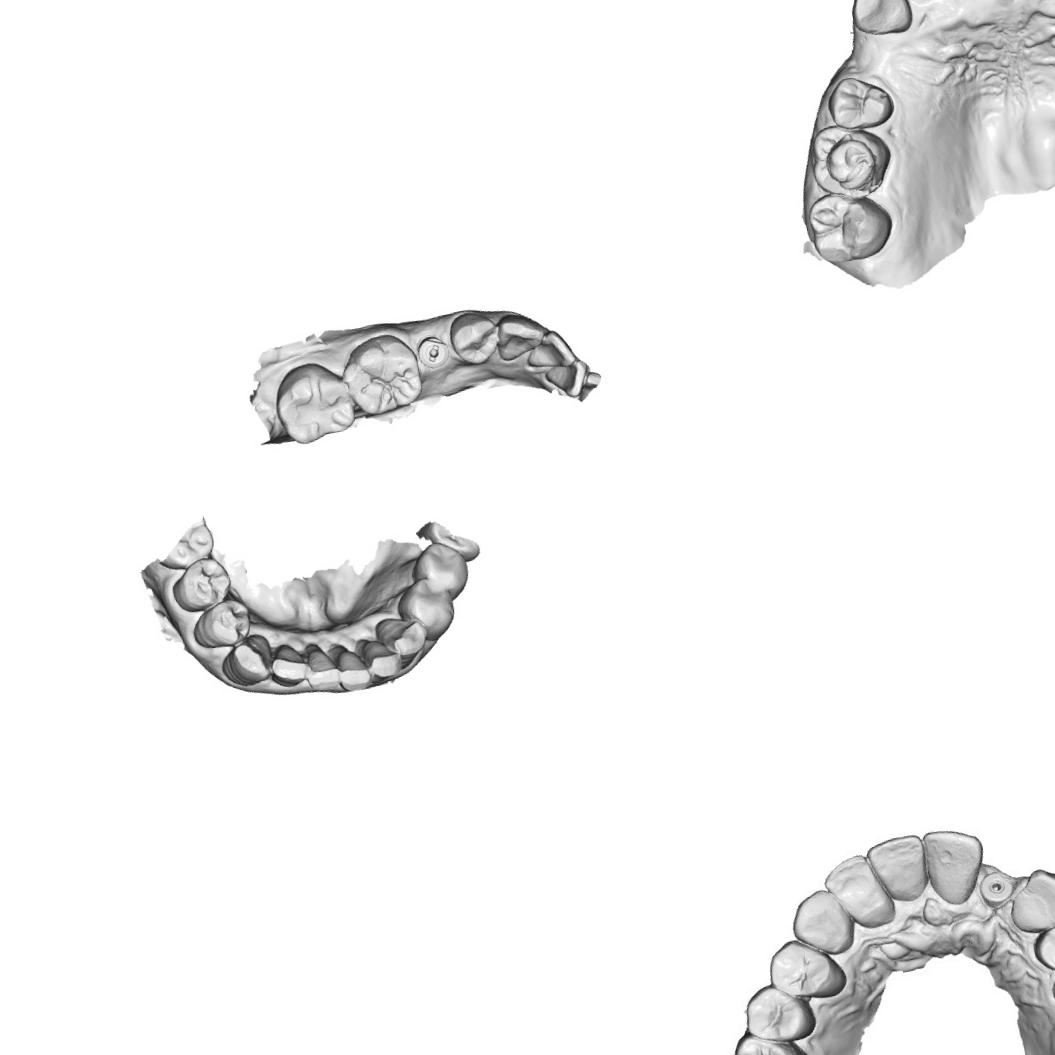canine: (782, 883, 860, 961), (216, 630, 278, 690), (490, 307, 548, 363), (372, 608, 431, 661), (843, 0, 915, 43), (1009, 864, 1055, 931)
implant: (977, 866, 1012, 908)
implant_minus: (412, 330, 452, 371)
incisor: (920, 820, 991, 906), (826, 852, 895, 934), (868, 832, 929, 900), (354, 630, 405, 685), (522, 325, 579, 374), (301, 638, 343, 694), (541, 356, 592, 402), (332, 637, 373, 693), (266, 638, 310, 690)
molar: (266, 355, 360, 450), (336, 326, 427, 421), (803, 115, 899, 205), (800, 184, 898, 270), (728, 1030, 808, 1055)
premolar: (820, 68, 899, 136), (765, 934, 844, 1000), (392, 574, 460, 647), (405, 537, 474, 608), (165, 552, 237, 616), (744, 982, 812, 1044), (187, 595, 254, 652), (444, 306, 504, 369), (1033, 912, 1055, 967)
